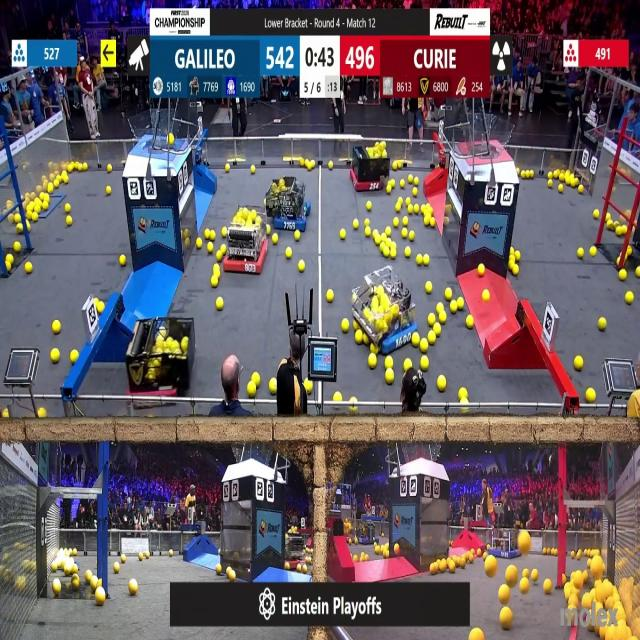ball_airborne: (169, 136, 174, 146)
ball_ground: (500, 610, 511, 631), (486, 556, 496, 575), (498, 586, 508, 604), (96, 589, 106, 605), (505, 568, 515, 584), (469, 630, 482, 640), (130, 582, 139, 596), (573, 356, 582, 370), (521, 580, 530, 594), (583, 595, 592, 609), (439, 377, 447, 392), (587, 389, 596, 402), (368, 354, 376, 368), (386, 370, 394, 384), (50, 349, 58, 363), (54, 320, 62, 334), (270, 380, 278, 394), (54, 582, 62, 596), (70, 350, 78, 363), (542, 581, 550, 594), (306, 381, 314, 394), (216, 296, 223, 310), (248, 383, 255, 397), (626, 291, 634, 303), (620, 270, 628, 282), (598, 318, 606, 330), (342, 320, 350, 332), (478, 266, 486, 278), (459, 388, 467, 400), (420, 340, 428, 352), (421, 356, 428, 369), (433, 326, 440, 339), (413, 335, 420, 348), (386, 357, 394, 368), (440, 313, 448, 324), (402, 359, 410, 370), (252, 374, 260, 385), (466, 316, 473, 328), (483, 289, 490, 301), (451, 302, 458, 314), (446, 288, 453, 300), (513, 265, 520, 277), (531, 568, 538, 580), (428, 314, 435, 326), (428, 334, 435, 346), (226, 568, 233, 580), (87, 570, 94, 582), (430, 562, 437, 574), (37, 410, 45, 420), (356, 332, 362, 345), (26, 264, 33, 275), (285, 248, 292, 259), (119, 254, 125, 266), (426, 282, 432, 294), (326, 290, 332, 302), (458, 299, 464, 311), (371, 228, 377, 240), (403, 248, 410, 258), (98, 304, 105, 314), (207, 243, 214, 253), (383, 248, 390, 258), (435, 304, 442, 314), (298, 262, 304, 273), (212, 276, 218, 287), (423, 254, 429, 265), (216, 251, 222, 262), (362, 334, 368, 345), (363, 229, 370, 238), (5, 264, 12, 273), (577, 248, 583, 258), (66, 216, 72, 226), (341, 230, 347, 240), (594, 209, 600, 219), (401, 230, 407, 240), (195, 239, 201, 249), (365, 202, 371, 212), (65, 204, 71, 214), (13, 243, 19, 253), (424, 216, 430, 226), (205, 230, 211, 240), (368, 344, 374, 354), (114, 562, 120, 572), (516, 250, 522, 260), (617, 226, 623, 236), (429, 218, 435, 228), (42, 201, 48, 211), (570, 177, 576, 187), (213, 266, 220, 274), (591, 247, 597, 256), (106, 185, 112, 194), (336, 392, 342, 401), (524, 568, 530, 577), (393, 218, 399, 227), (577, 184, 583, 193), (390, 250, 396, 259), (386, 226, 392, 235), (414, 205, 420, 214), (16, 223, 22, 232), (3, 412, 9, 421), (395, 204, 401, 213), (210, 232, 216, 241), (6, 254, 12, 263), (352, 321, 358, 330), (98, 577, 104, 586), (306, 159, 312, 168), (47, 184, 53, 193), (386, 239, 392, 248), (402, 217, 407, 227), (294, 232, 299, 242), (216, 564, 221, 574), (273, 235, 278, 245), (417, 254, 422, 264), (410, 232, 415, 242), (353, 219, 358, 229), (32, 214, 38, 222), (548, 182, 554, 190), (139, 554, 145, 562), (627, 247, 633, 255), (221, 230, 227, 238), (445, 217, 451, 225), (559, 174, 565, 182), (299, 160, 304, 169), (68, 163, 73, 172), (554, 171, 559, 180), (414, 178, 420, 185), (520, 171, 526, 178), (221, 246, 227, 253), (387, 185, 392, 193), (107, 165, 112, 173), (120, 556, 125, 564), (636, 268, 640, 278), (559, 184, 564, 192), (224, 165, 229, 173), (529, 170, 534, 178), (399, 180, 404, 188), (82, 164, 87, 172), (268, 225, 273, 233), (547, 172, 552, 180), (409, 176, 414, 184), (304, 566, 309, 574), (384, 552, 389, 560), (14, 215, 19, 223), (296, 565, 301, 573), (606, 214, 611, 222), (392, 163, 397, 171), (618, 257, 622, 266), (284, 564, 290, 570), (28, 221, 32, 230), (364, 219, 369, 226), (169, 551, 174, 558), (413, 188, 418, 195), (64, 176, 69, 183), (361, 555, 366, 562), (410, 206, 414, 214), (328, 163, 332, 171), (562, 574, 566, 582), (185, 240, 189, 248), (374, 546, 378, 554), (251, 167, 255, 174), (146, 553, 150, 560), (408, 199, 412, 206), (354, 556, 358, 562), (571, 553, 575, 559), (348, 538, 352, 544)
goal: (460, 118, 517, 158), (129, 115, 188, 152)
robot_blue: (349, 270, 418, 354), (266, 178, 310, 233), (490, 527, 521, 558), (351, 519, 376, 546)
robot_red: (125, 316, 191, 408), (225, 207, 269, 274), (347, 138, 389, 190), (283, 525, 306, 566), (447, 0, 489, 6)
